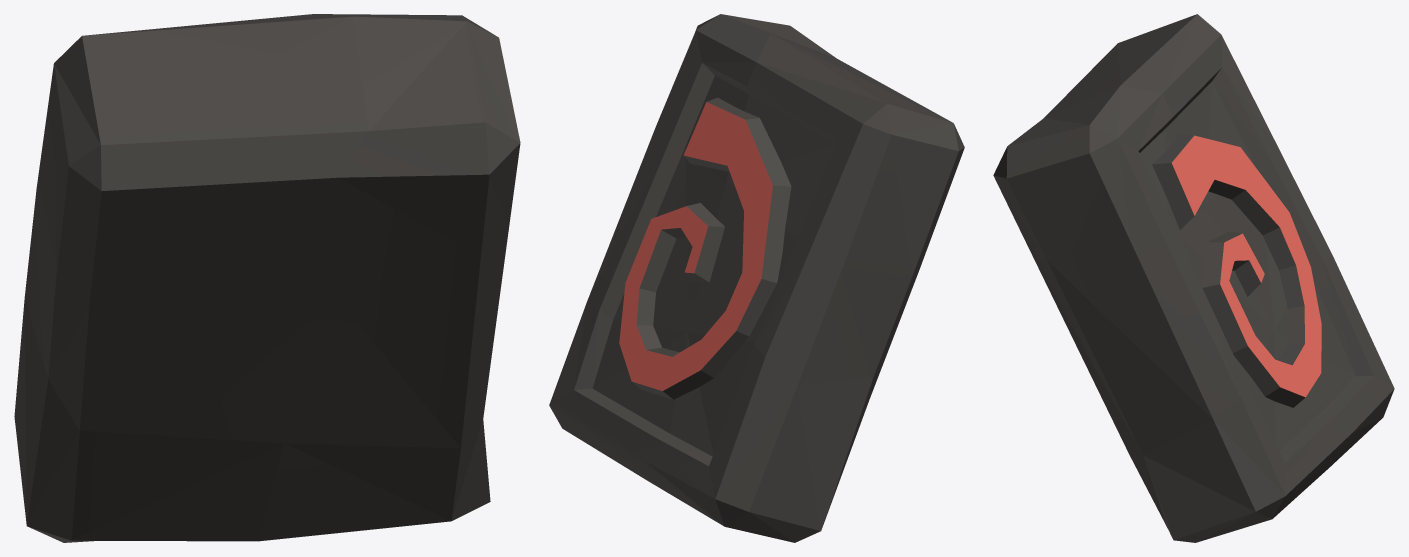
Rendered from trinketRune2.fbx.
The picture shows the model from 3 angles, left to right: view 1: azimuth 30°, elevation 25°; view 2: azimuth 150°, elevation 25°; view 3: azimuth 270°, elevation 25°; orthographic projection. The views are drawn at different scales.
Visible parts, largest first — view 1: trinketRune2; view 2: trinketRune2; view 3: trinketRune2.
Part boxes in pixels (x1,y1,x2,y2): trinketRune2: (14, 14, 520, 542); trinketRune2: (549, 14, 964, 542); trinketRune2: (993, 14, 1394, 542).
Size of the model in its own units: 1.18 by 1.35 by 1.19.
Materials: 1 (1 with a texture image).
